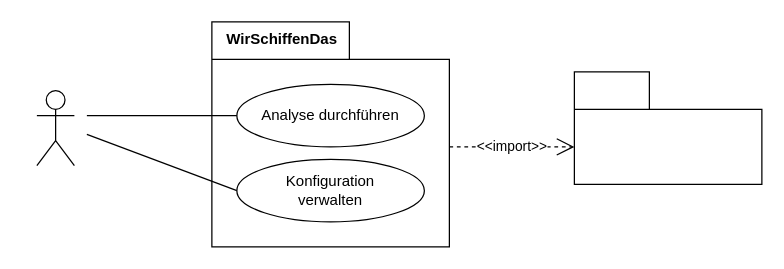
Image size: 784x269. Some labels were removed from this diagram. Each missing label, with the box of its shape:
Anwender: (36, 89, 74, 166)
Kafka: (573, 71, 762, 184)
